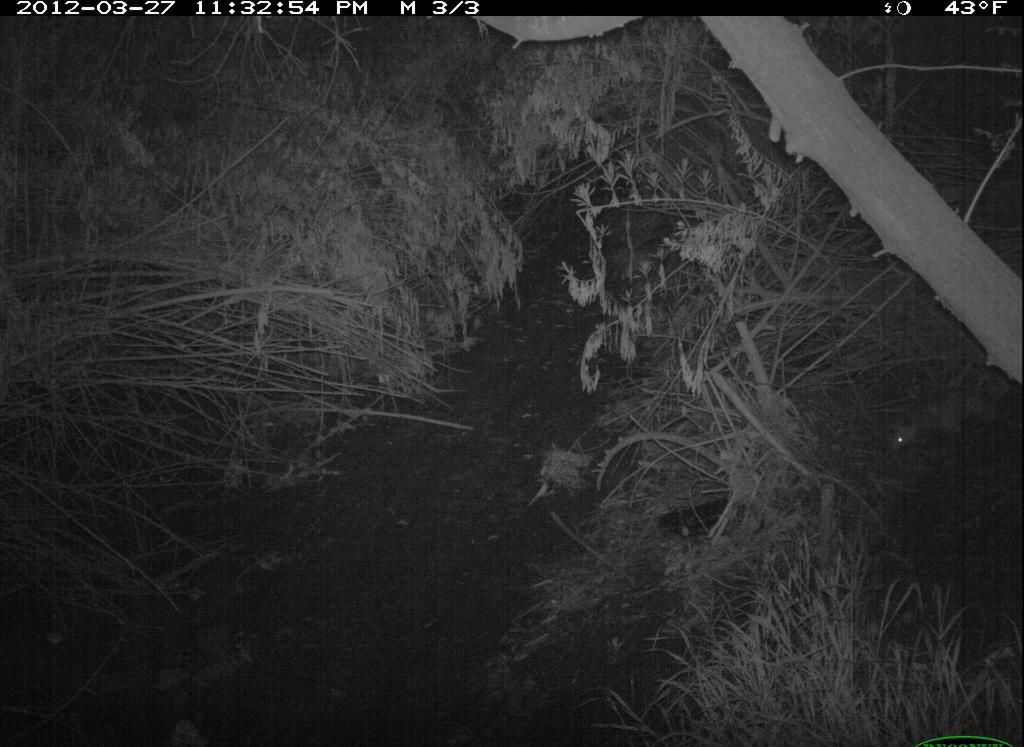opossum: (885, 383, 1019, 465)
